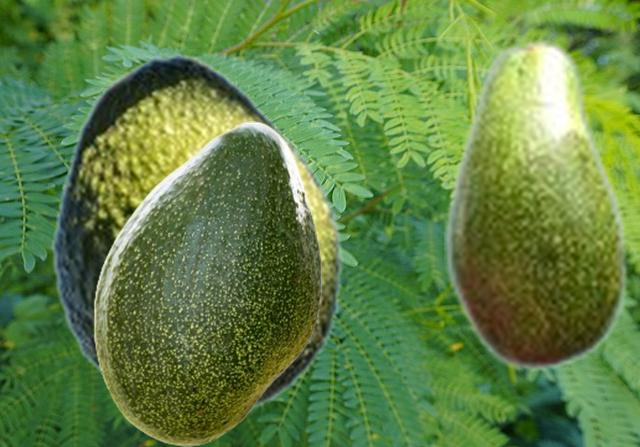avocado: (49, 53, 342, 418), (93, 121, 320, 445), (444, 36, 628, 373)
